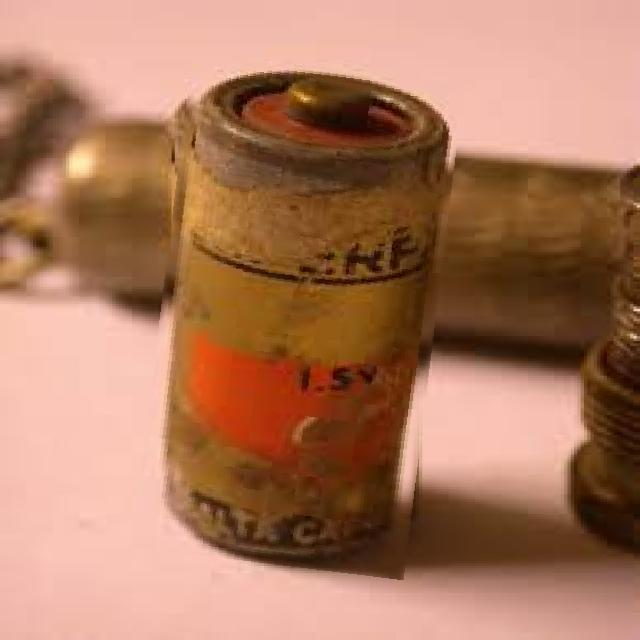Battery: (165, 39, 453, 566)
